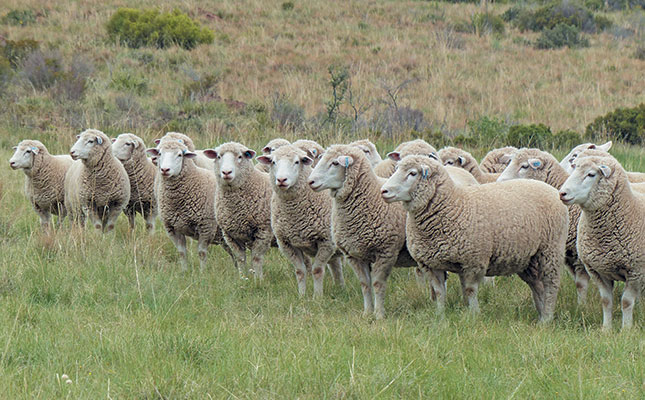sheep: (386, 155, 570, 335), (311, 144, 419, 333), (258, 141, 351, 320), (205, 136, 292, 290), (568, 151, 645, 318), (148, 132, 220, 275), (60, 121, 128, 251), (8, 131, 79, 226), (110, 129, 170, 241), (498, 139, 570, 206)
